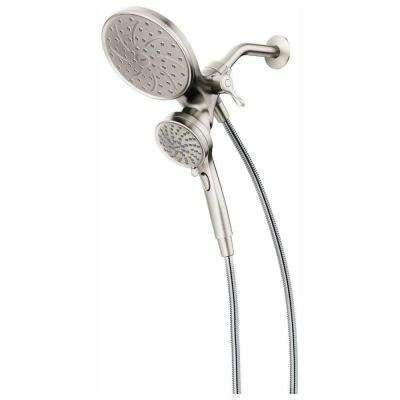Ducha: (104, 0, 319, 398)
